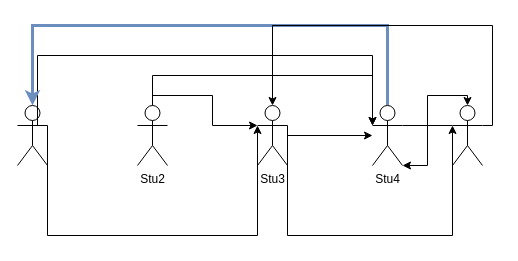
The diagram is 518 pixels wide and 261 high, and some of its shapes have lost their labels. Each missing label, with the centre of its shape:
Stu1: [32,135]
Stu5: [467,135]
